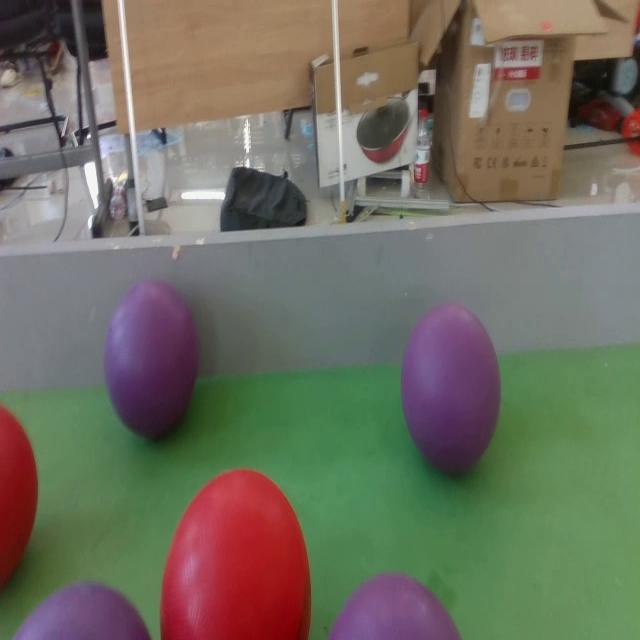invalid: (401, 302, 499, 483), (108, 280, 197, 449), (332, 572, 467, 640), (3, 579, 148, 640)
red: (160, 466, 314, 640), (0, 402, 39, 586)
